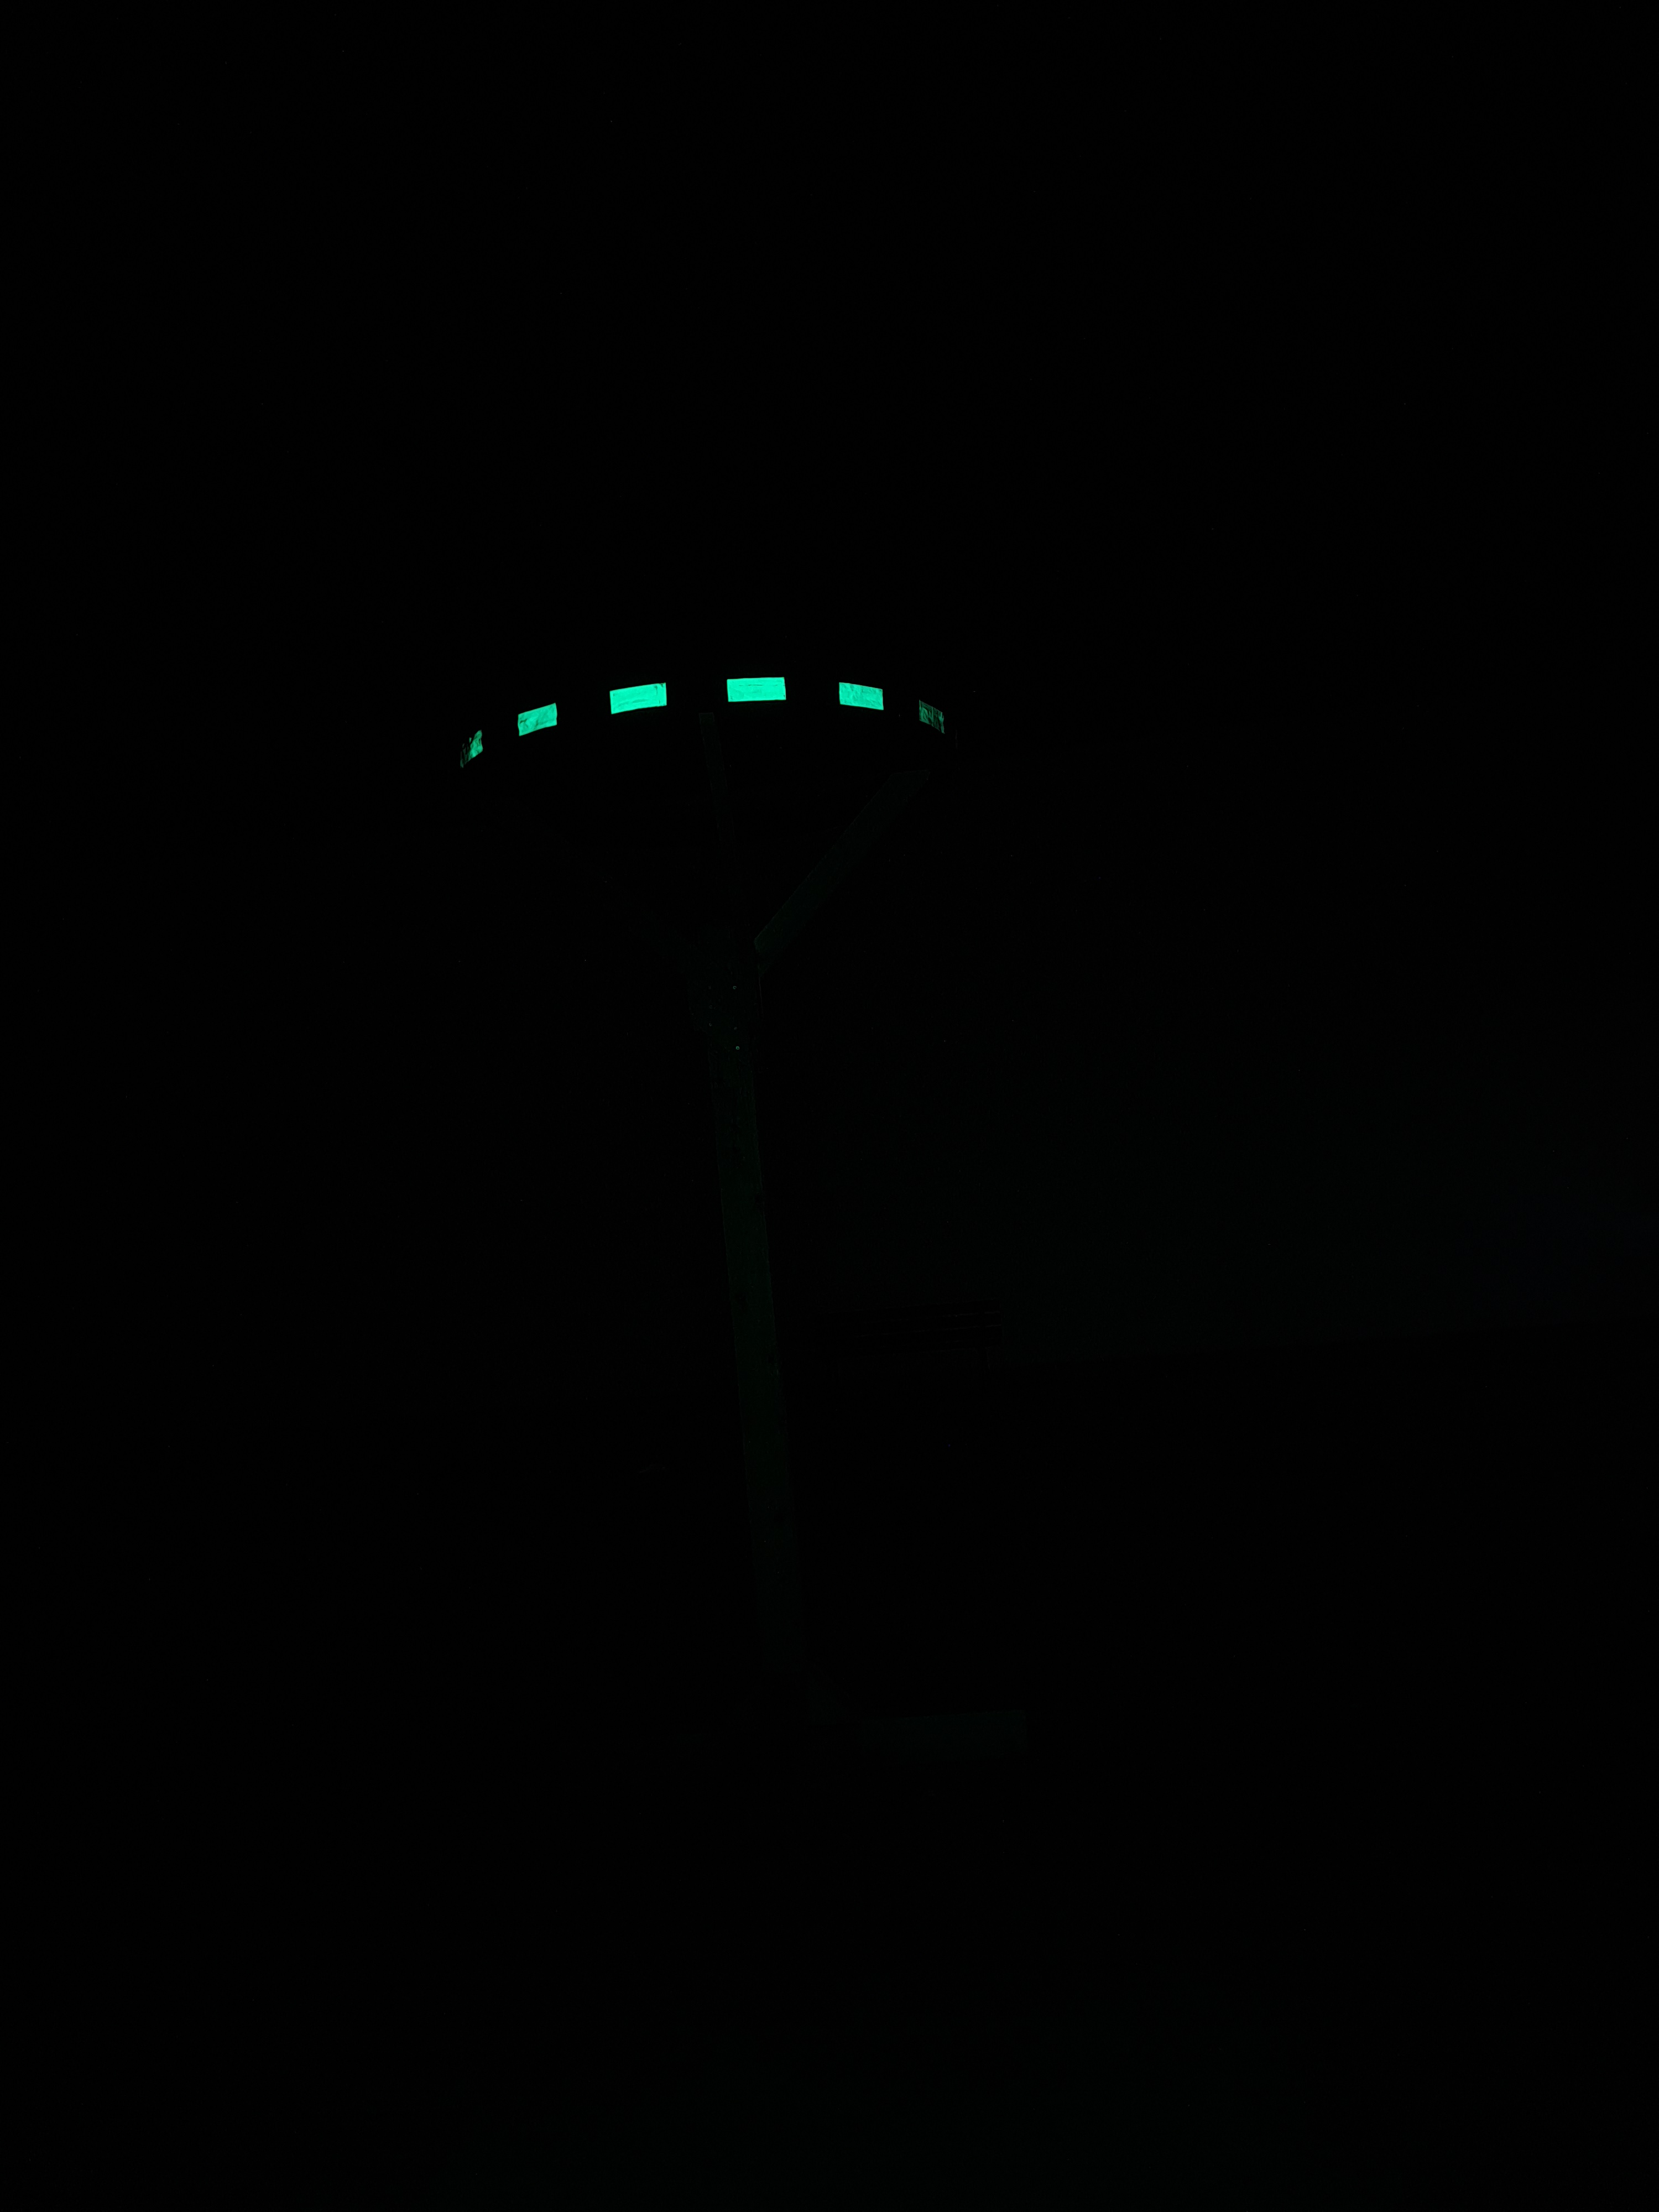hoop: (457, 671, 951, 779)
